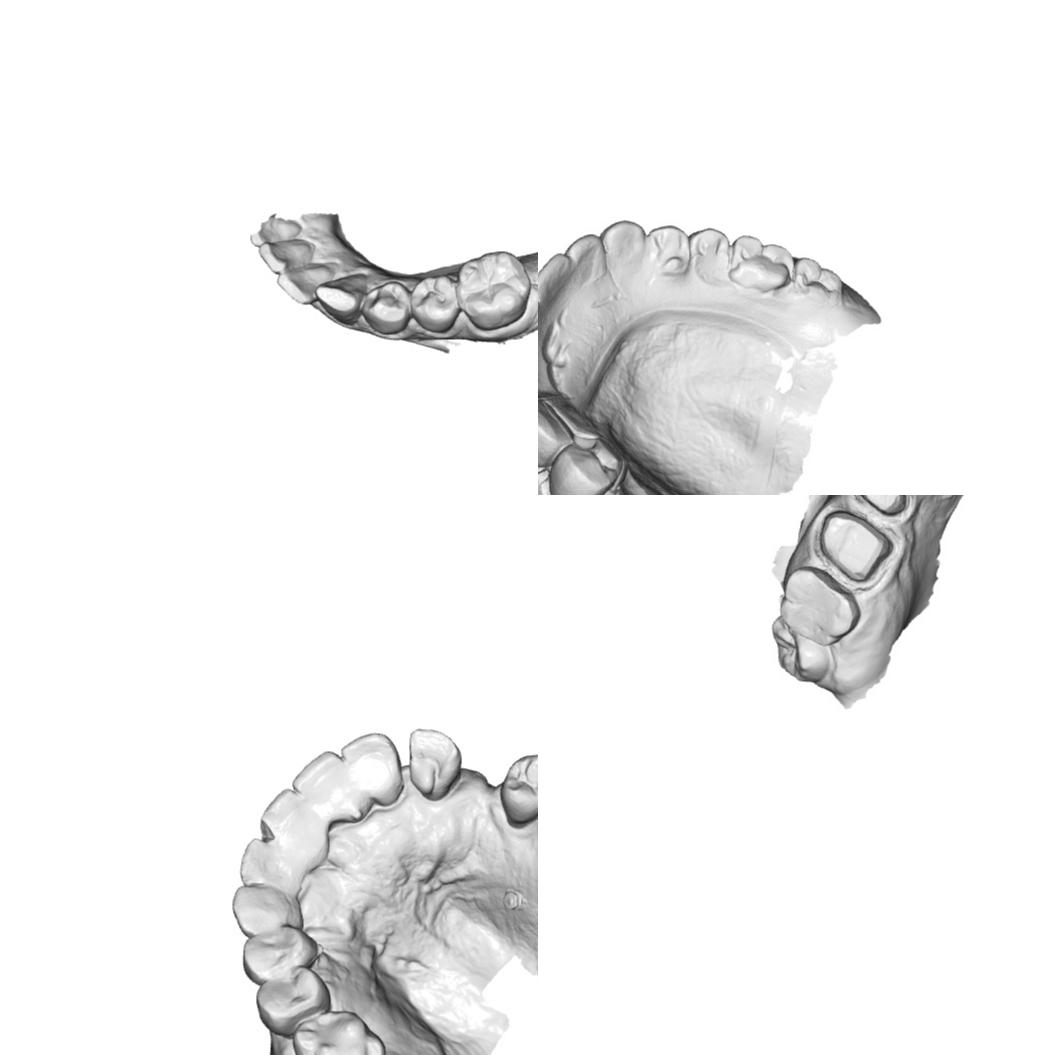canine: (230, 881, 305, 938), (406, 726, 462, 802), (314, 272, 368, 325), (601, 218, 647, 273), (538, 398, 573, 469)
crown: (810, 507, 896, 585), (851, 495, 913, 518)
incisor: (339, 730, 399, 799), (291, 749, 349, 810), (258, 785, 312, 847), (237, 835, 292, 893), (276, 265, 336, 305), (256, 238, 316, 274), (564, 230, 606, 281), (538, 251, 576, 305), (248, 216, 302, 247), (538, 298, 549, 354)
molar: (777, 564, 862, 648), (455, 250, 532, 332), (726, 231, 798, 293), (292, 1007, 382, 1055), (788, 252, 848, 306)
premolar: (254, 967, 332, 1037), (240, 926, 318, 983), (549, 440, 622, 495), (649, 219, 698, 280), (409, 274, 458, 334), (360, 280, 412, 336), (498, 751, 538, 822), (690, 224, 731, 277)
